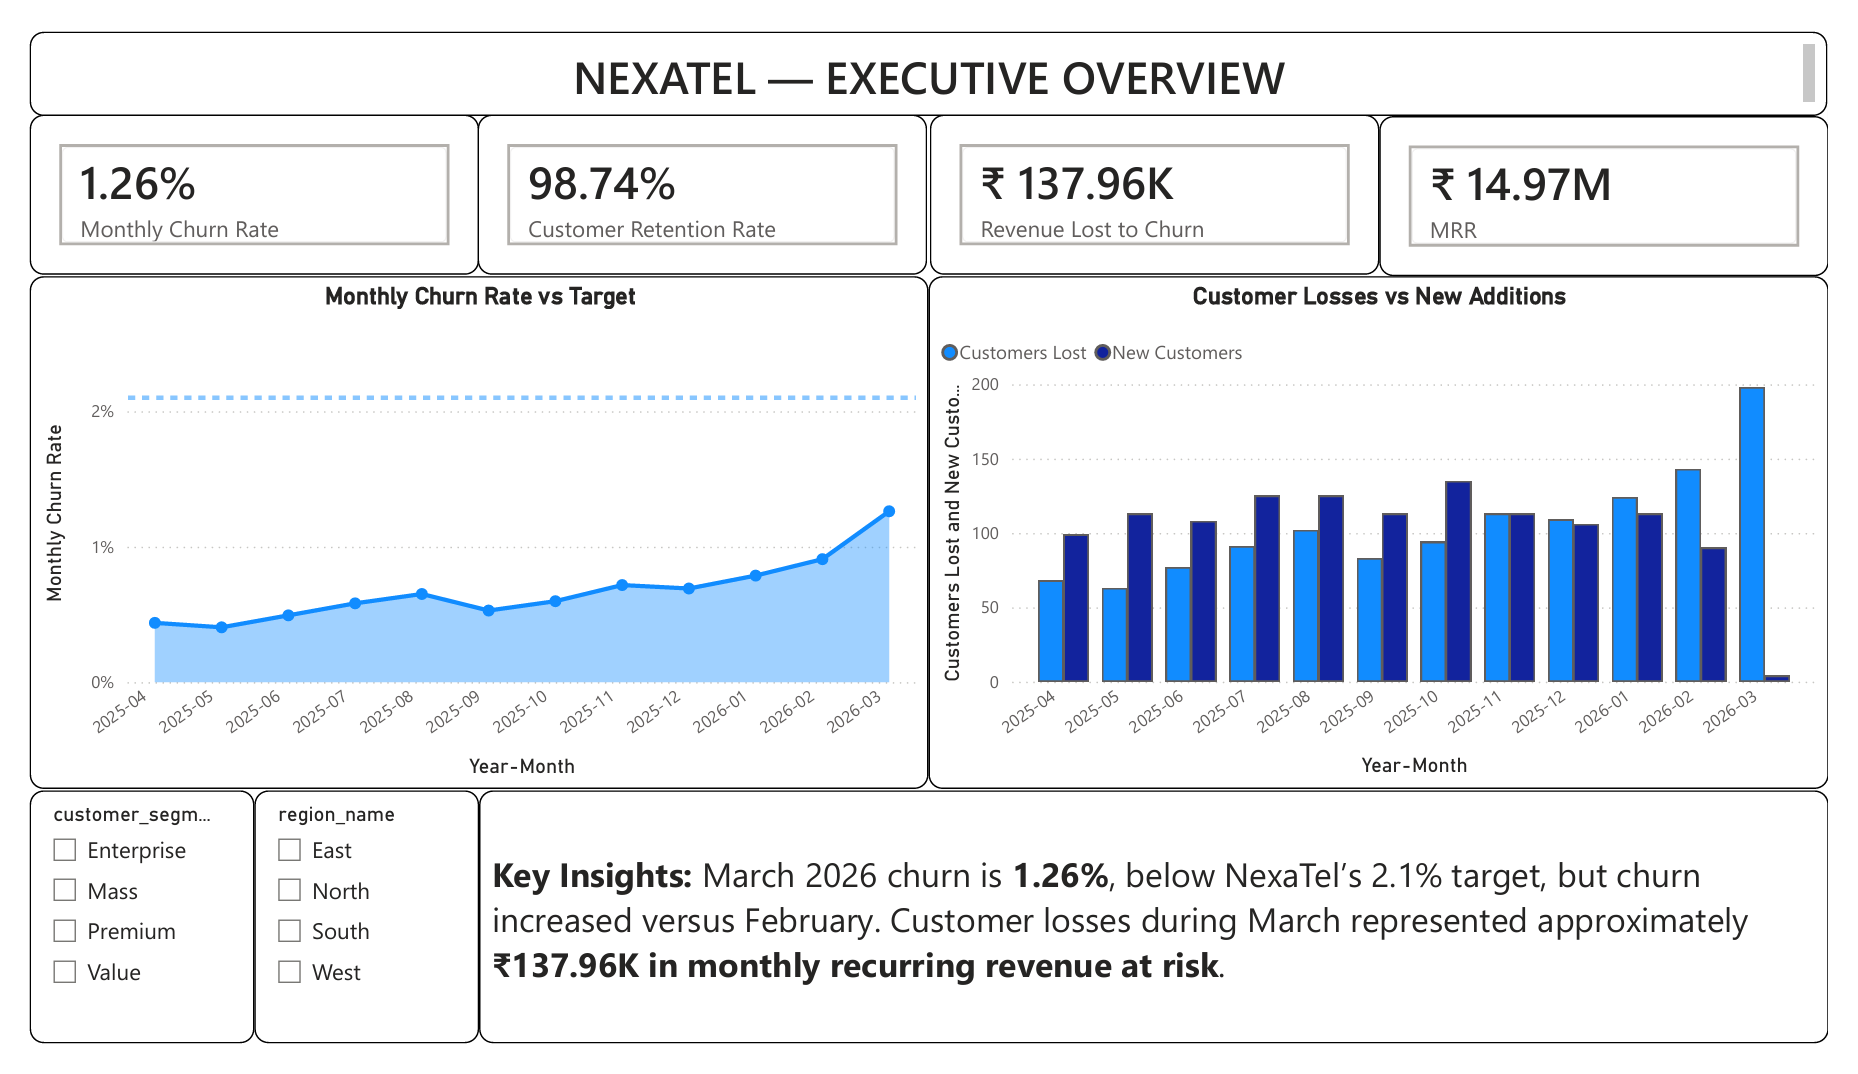

Layout of this report page (visuals, bound fields, positions):
{"tool":"powerbi","page":{"name":"Executive Overview","canvas":[1280,720],"ordinal":0},"visuals":[{"type":"group","id":"g1","title":"Group 1","box":[0,59.4,1280.8,115.1],"z":0},{"type":"cardVisual","fields":{"Data":["KPI_Measures.Monthly Churn Rate"]},"box":[0,59.4,320,114.1],"z":0,"group":"g1"},{"type":"lineChart","title":"Monthly Churn Rate vs Target","fields":{"Y":["KPI_Measures.Monthly Churn Rate"],"Category":["Date_Table.Year-Month"]},"box":[0,174.5,640,364.8],"z":0,"group":"g2"},{"type":"cardVisual","fields":{"Data":["KPI_Measures.Customer Retention Rate"]},"box":[319.5,59.4,320,114.1],"z":1000,"group":"g1"},{"type":"clusteredColumnChart","title":"Customer Losses vs New Additions","fields":{"Category":["Date_Table.Year-Month"],"Y":["KPI_Measures.Customers Lost","KPI_Measures.New Customers"]},"box":[640.4,175,640.4,364.6],"z":1000,"group":"g2"},{"type":"slicer","fields":{"Values":["customers_clean.customer_segment"]},"box":[0,539.7,160.1,180],"z":1000},{"type":"cardVisual","fields":{"Data":["KPI_Measures.Revenue Lost to Churn"]},"box":[641,59.4,320,114.1],"z":2000,"group":"g1"},{"type":"slicer","fields":{"Values":["regions_clean.region_name"]},"box":[160.1,539.7,160.1,180],"z":2000},{"type":"cardVisual","fields":{"Data":["KPI_Measures.MRR"]},"box":[960.5,60.7,320,114.1],"z":3000,"group":"g1"},{"type":"textbox","box":[320.2,539.7,960.6,180],"z":3000},{"type":"textbox","title":" NEXATEL — EXECUTIVE OVERVIEW   ","box":[0,0,1280,60],"z":4000},{"type":"group","id":"g2","title":"Group 2","box":[0,174.5,1280.8,365.2],"z":5000}]}

Visuals, with their boxes in screenshot pixels (x1, y1, x2, y2), scaled from the page's 1280x720 canvas onto the 1858x1074 screenshot:
"Group 1" group: (x1=0, y1=89, x2=1857, y2=260)
cardVisual - KPI_Measures.Monthly Churn Rate: (x1=0, y1=89, x2=464, y2=259)
"Monthly Churn Rate vs Target" lineChart: (x1=0, y1=260, x2=929, y2=804)
cardVisual - KPI_Measures.Customer Retention Rate: (x1=464, y1=89, x2=928, y2=259)
"Customer Losses vs New Additions" clusteredColumnChart: (x1=930, y1=261, x2=1857, y2=805)
slicer - customers_clean.customer_segment: (x1=0, y1=805, x2=232, y2=1073)
cardVisual - KPI_Measures.Revenue Lost to Churn: (x1=930, y1=89, x2=1395, y2=259)
slicer - regions_clean.region_name: (x1=232, y1=805, x2=465, y2=1073)
cardVisual - KPI_Measures.MRR: (x1=1394, y1=91, x2=1857, y2=261)
textbox: (x1=465, y1=805, x2=1857, y2=1073)
" NEXATEL — EXECUTIVE OVERVIEW   " textbox: (x1=0, y1=0, x2=1857, y2=90)
"Group 2" group: (x1=0, y1=260, x2=1857, y2=805)
